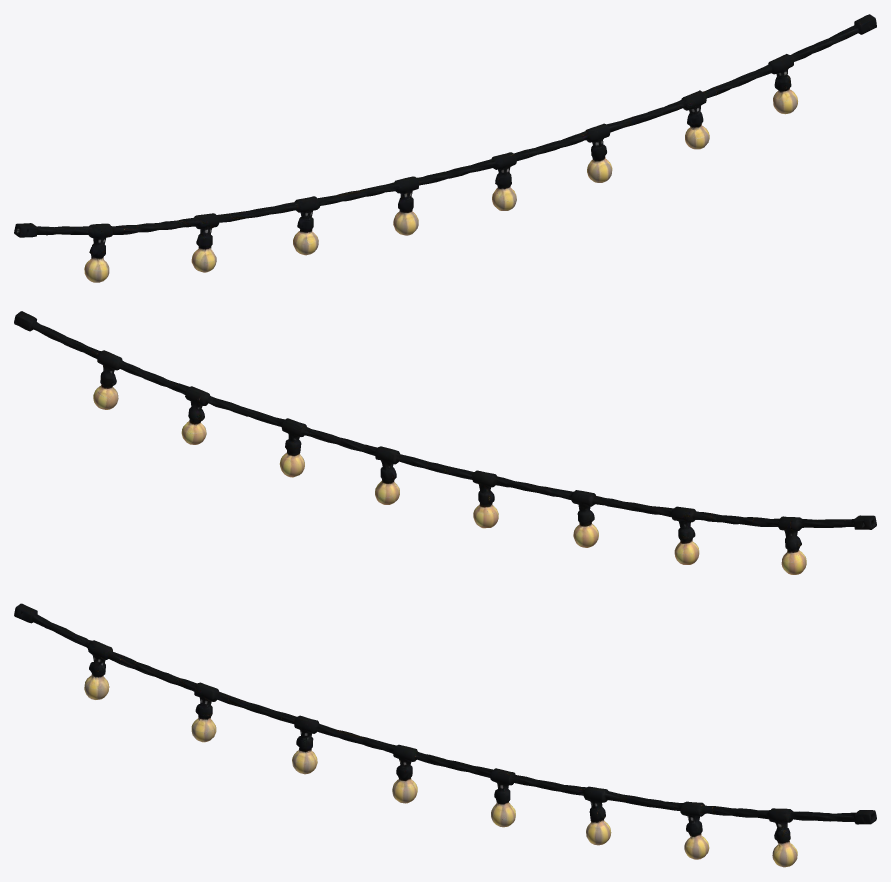
Rendered from bunting_lod1.glb.
3 views of the same model, one above another, from view 1: azimuth 30°, elevation 25°; view 2: azimuth 150°, elevation 25°; view 3: azimuth 330°, elevation 25° (orthographic).
Visible parts, largest first — view 1: mesh_node; view 2: mesh_node; view 3: mesh_node.
Part boxes in pixels (x1=…): mesh_node: x1=14, y1=14, x2=876, y2=282; mesh_node: x1=14, y1=311, x2=876, y2=574; mesh_node: x1=14, y1=603, x2=876, y2=867.
Size of the model in its own units: 1.9 by 0.2203 by 0.0551.
1 material, 1 textured.
